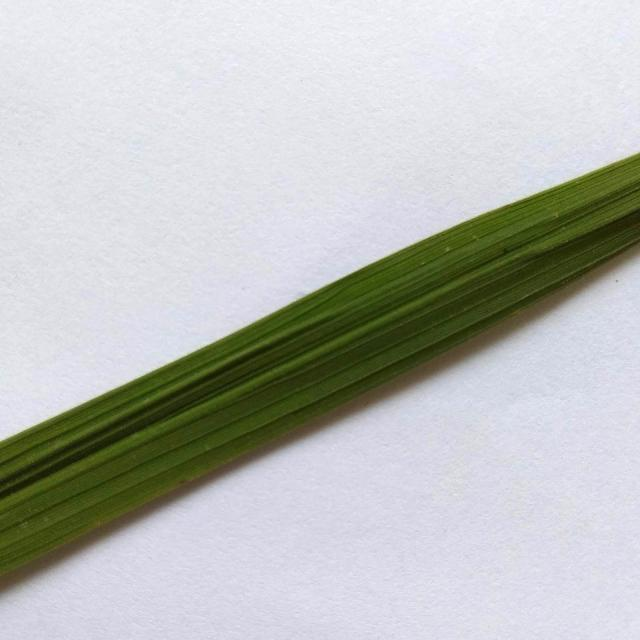healthy: (0, 135, 640, 592)
